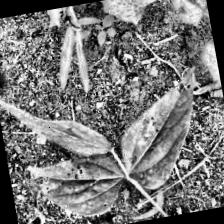ALS: (110, 67, 216, 197), (10, 90, 108, 172), (27, 152, 115, 223)
